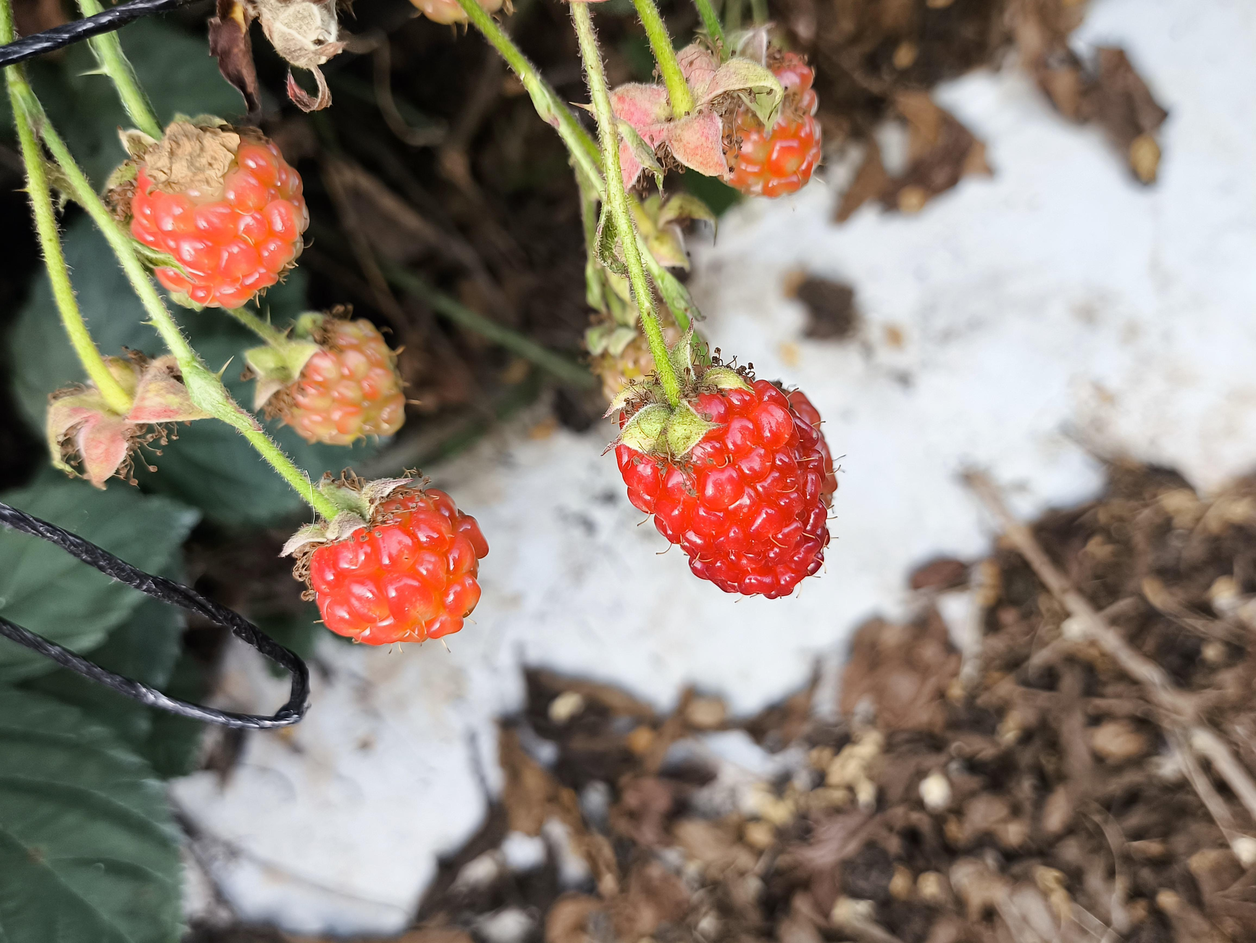naranja: (615, 360, 835, 598), (129, 138, 309, 307), (298, 486, 488, 645), (281, 320, 404, 445), (726, 53, 822, 198)
